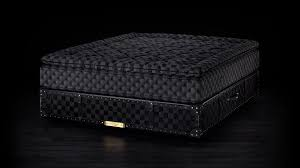bed-matress: (40, 28, 265, 137)
